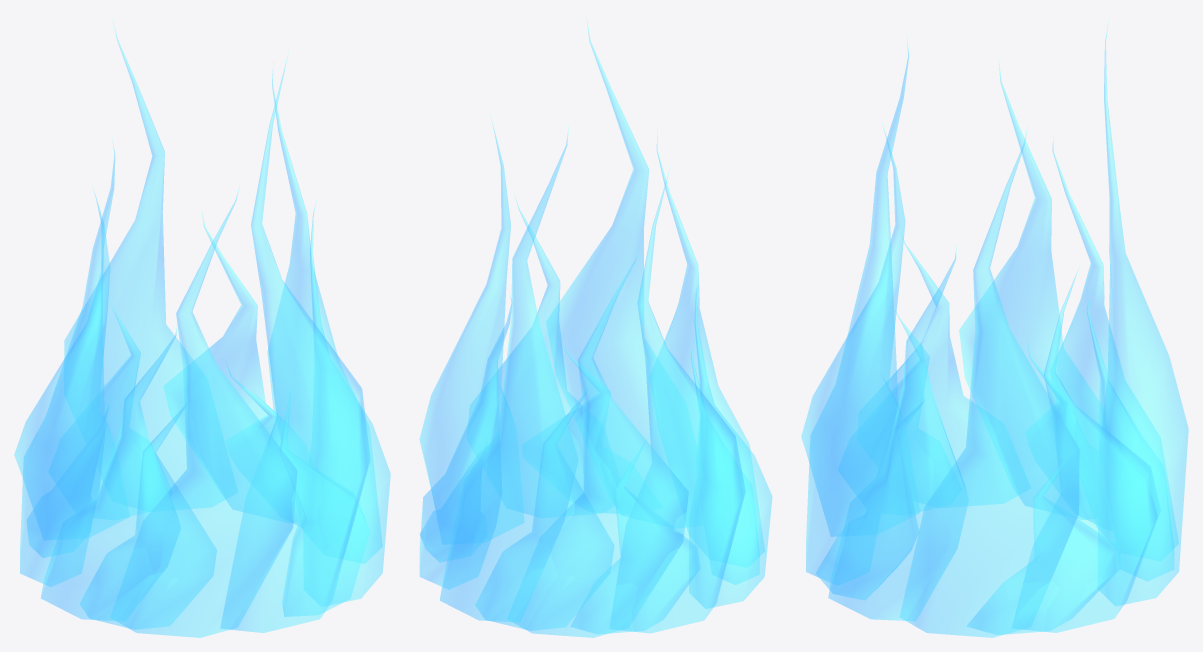
Rendered from aura-kit.glb.
The picture shows the model from 3 angles, left to right: view 1: azimuth 30°, elevation 25°; view 2: azimuth 150°, elevation 25°; view 3: azimuth 270°, elevation 25°; orthographic projection. The views are drawn at different scales.
Visible parts, largest first — view 1: flames; view 2: flames; view 3: flames.
Boxes of the visible parts, box(x1,y1,x2,y2) form: flames: box(14, 20, 390, 637); flames: box(419, 18, 772, 637); flames: box(801, 21, 1188, 637).
Size of the model in its own units: 0.7412 by 1.18 by 0.7529.
